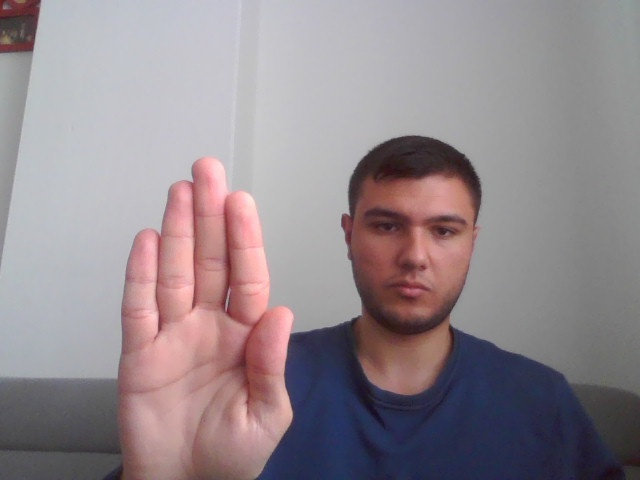Hello: (113, 154, 297, 480)
